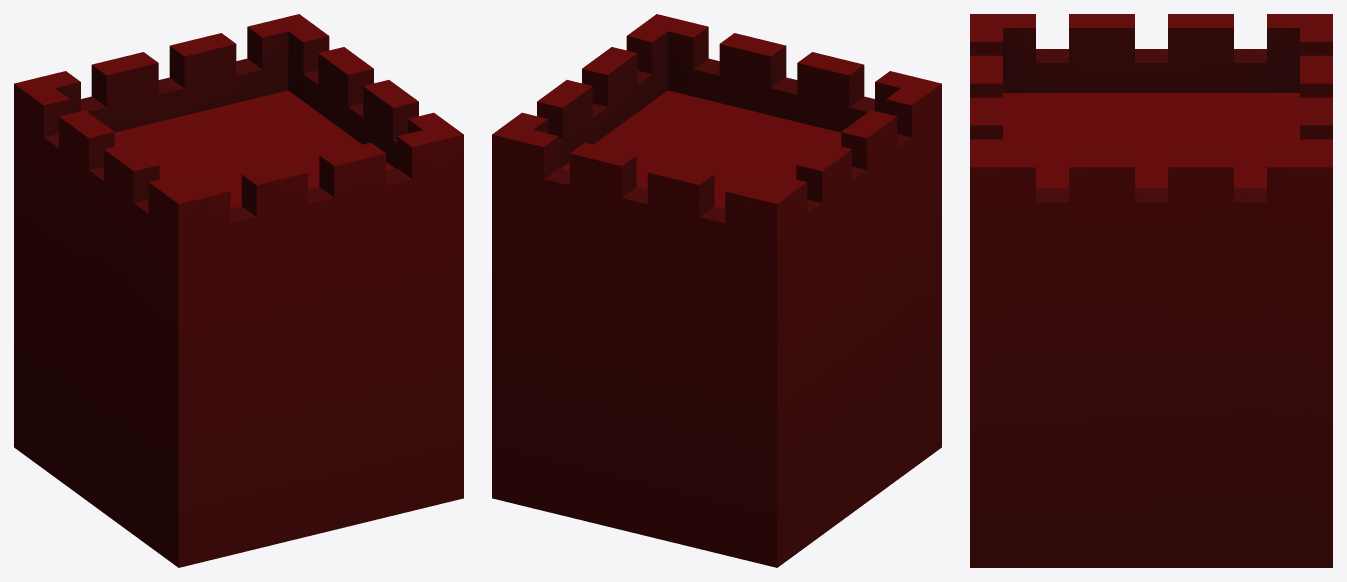
Rendered from buildings-ruins-castleruins_v4.fbx.
3 views of the same model, side by side, from view 1: azimuth 30°, elevation 25°; view 2: azimuth 150°, elevation 25°; view 3: azimuth 270°, elevation 25° (orthographic). The views are drawn at different scales.
Parts seen in each view (by area): view 1: CastleRuins_v4; view 2: CastleRuins_v4; view 3: CastleRuins_v4.
Part boxes in pixels (x1,y1,x2,y2): CastleRuins_v4: [14, 14, 463, 567]; CastleRuins_v4: [492, 14, 941, 567]; CastleRuins_v4: [970, 14, 1332, 567].
Size of the model in its own units: 12.24 by 14.92 by 12.24.
